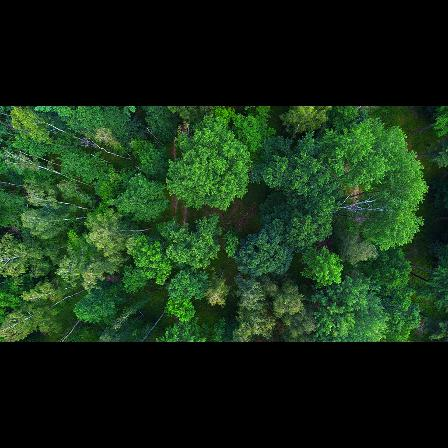Dead: (59, 137, 132, 161), (334, 193, 391, 223)
